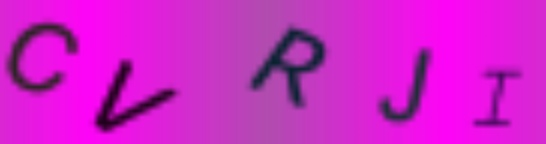C: (5, 18, 82, 97)
I: (471, 67, 527, 132)
J: (375, 43, 437, 129)
R: (248, 24, 331, 110)
V: (89, 55, 180, 135)
